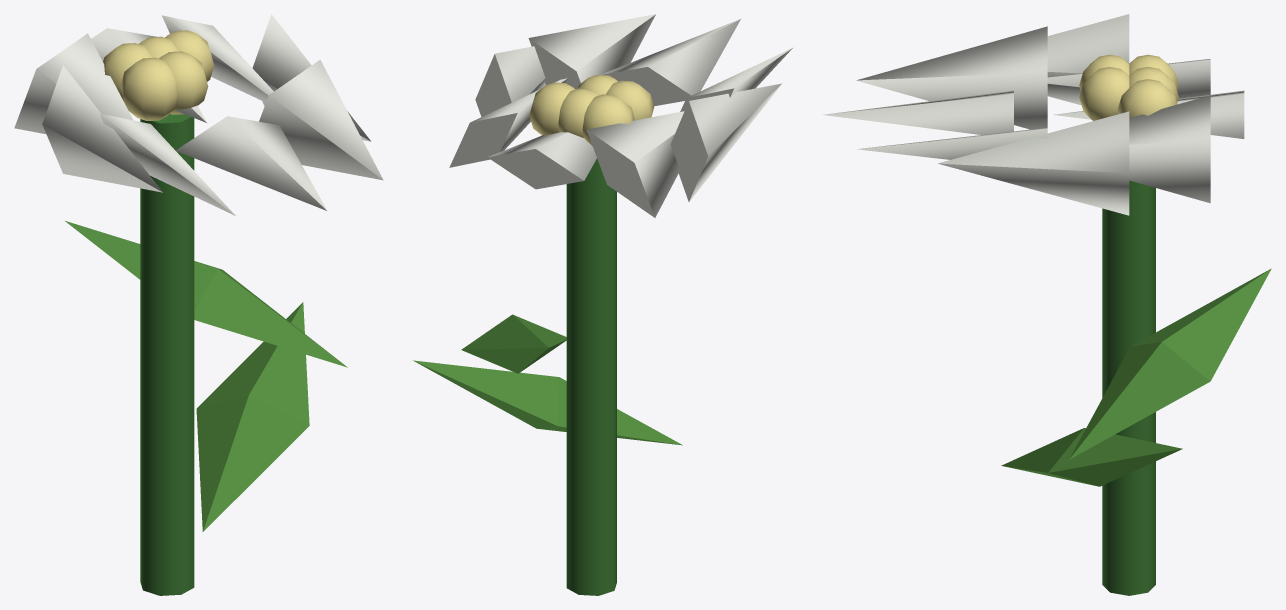
Rendered from edelweiss.glb.
3 renders of one model, left to right at view 1: azimuth 30°, elevation 25°; view 2: azimuth 150°, elevation 25°; view 3: azimuth 270°, elevation 25°, orthographic. The views are drawn at different scales.
Visible parts, largest first — view 1: edelweiss; view 2: edelweiss; view 3: edelweiss.
Boxes of the visible parts, x1,y1,x2,y2 form: edelweiss: (14,14,383,595); edelweiss: (413,14,792,595); edelweiss: (822,14,1271,595).
Bounding box in the file's own units: 0.1666 × 0.3 × 0.2344.
